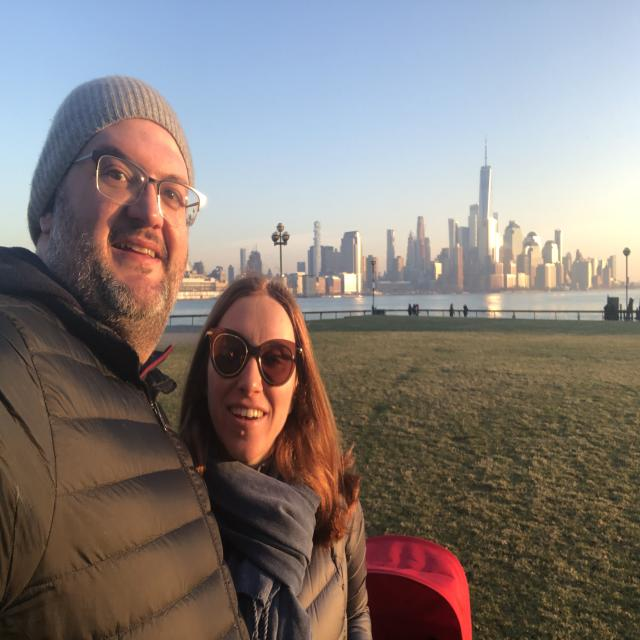WTC: (478, 131, 493, 229)
